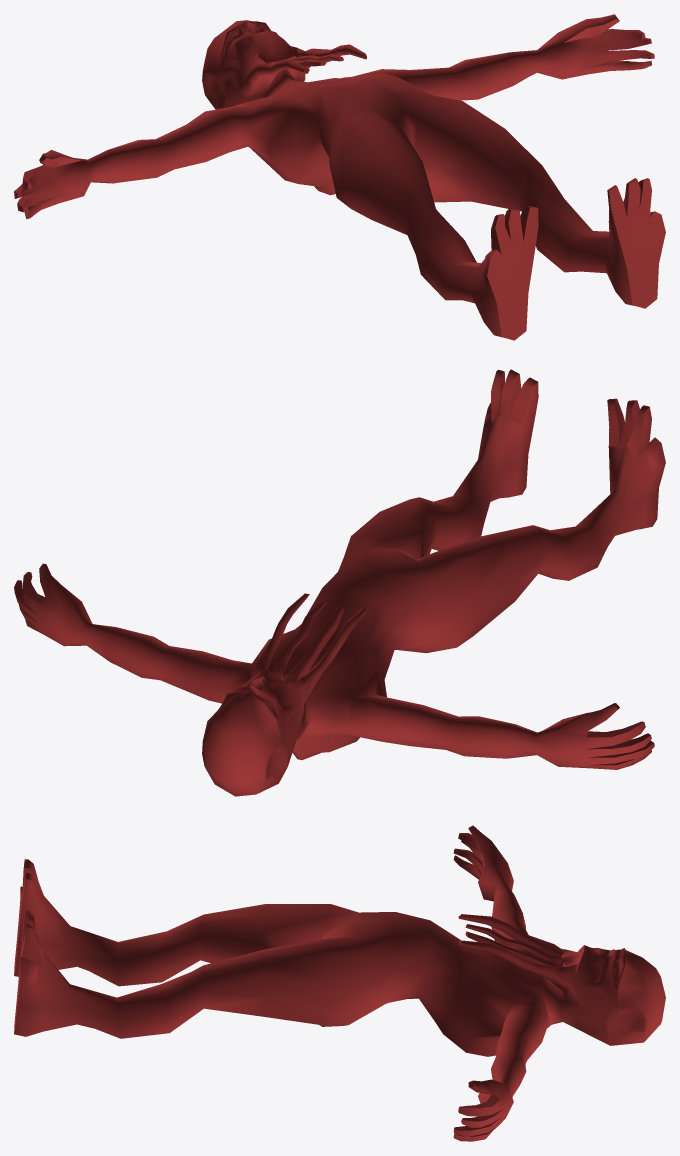
Rendered from W_Bloodsucker.FBX.
3 renders of one model, top to bottom at view 1: azimuth 30°, elevation 25°; view 2: azimuth 150°, elevation 25°; view 3: azimuth 270°, elevation 25°, orthographic. The views are drawn at different scales.
Parts seen in each view (by area): view 1: Body; view 2: Body; view 3: Body.
Part boxes in pixels (x1=…): Body: x1=14, y1=14, x2=665, y2=340; Body: x1=14, y1=369, x2=665, y2=796; Body: x1=14, y1=825, x2=665, y2=1141.
Bounding box in the file's own units: 113 × 30.77 × 110.
